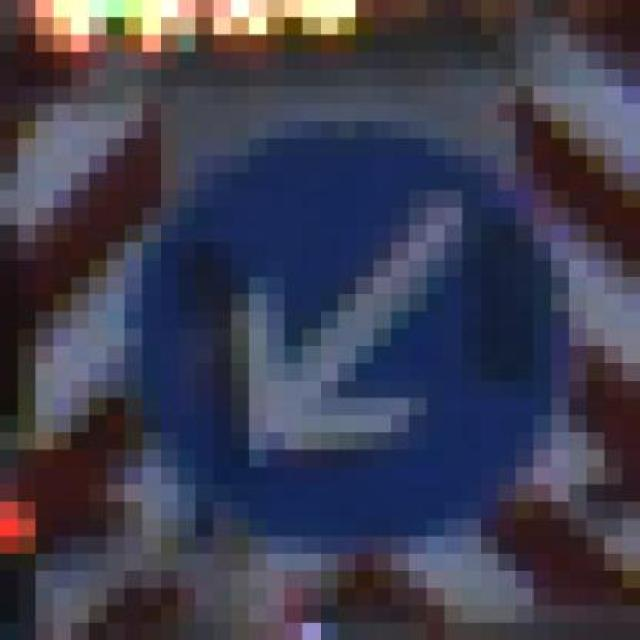Keep-Left: (107, 120, 587, 572)
